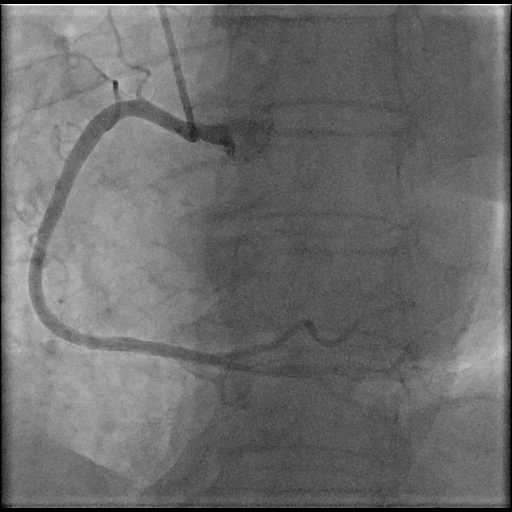RCA: (28, 100, 329, 380)
catherter: (160, 8, 194, 121)
